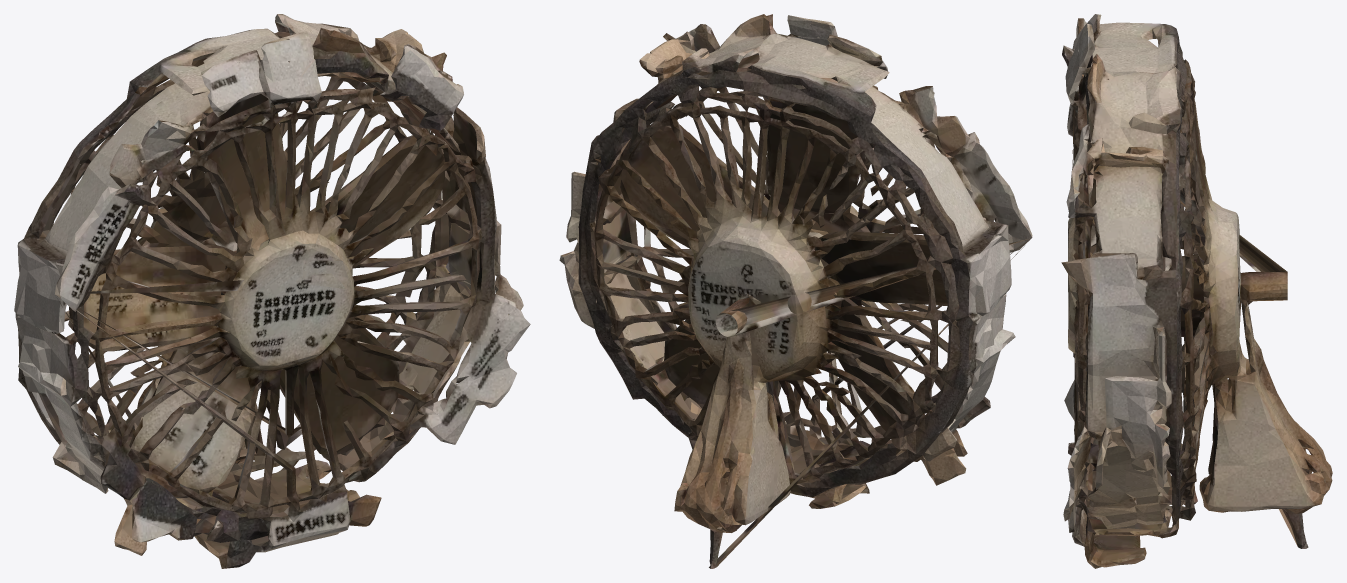
The model's file is tail (254).glb.
3 views of the same model, side by side, from view 1: azimuth 30°, elevation 25°; view 2: azimuth 150°, elevation 25°; view 3: azimuth 270°, elevation 25° (orthographic). The views are drawn at different scales.
Parts seen in each view (by area): view 1: Hy21_Mesh.obj; view 2: Hy21_Mesh.obj; view 3: Hy21_Mesh.obj.
Part boxes in pixels (x1,y1,x2,y2): Hy21_Mesh.obj: (14,14,530,568); Hy21_Mesh.obj: (559,14,1032,568); Hy21_Mesh.obj: (1061,14,1332,568).
Bounding box in the file's own units: 0.9129 × 0.9613 × 0.4597.
Materials: 1 (1 with a texture image).
